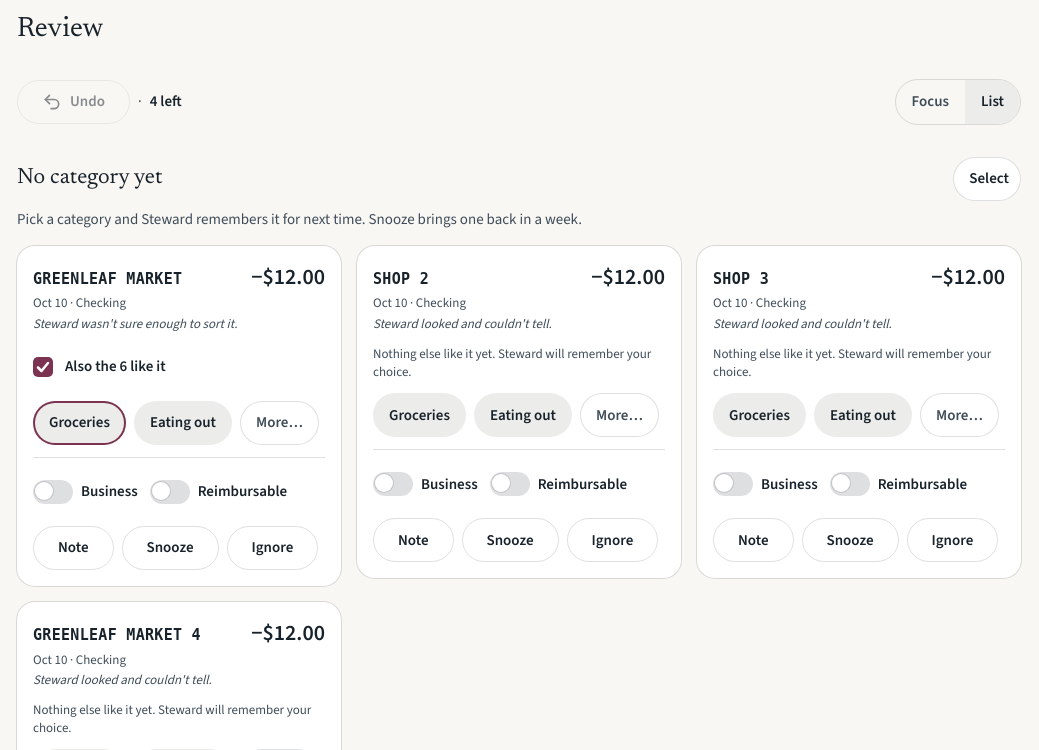
Test: the list (review focus P20, P21): a card acted on becomes a slim row in its place › Snooze and Ignore leave slim rows, and their toasts are plain sentences
Click the button "Snooze" below "SHOP 2".
click(510, 540)  # box [462,518,558,562]
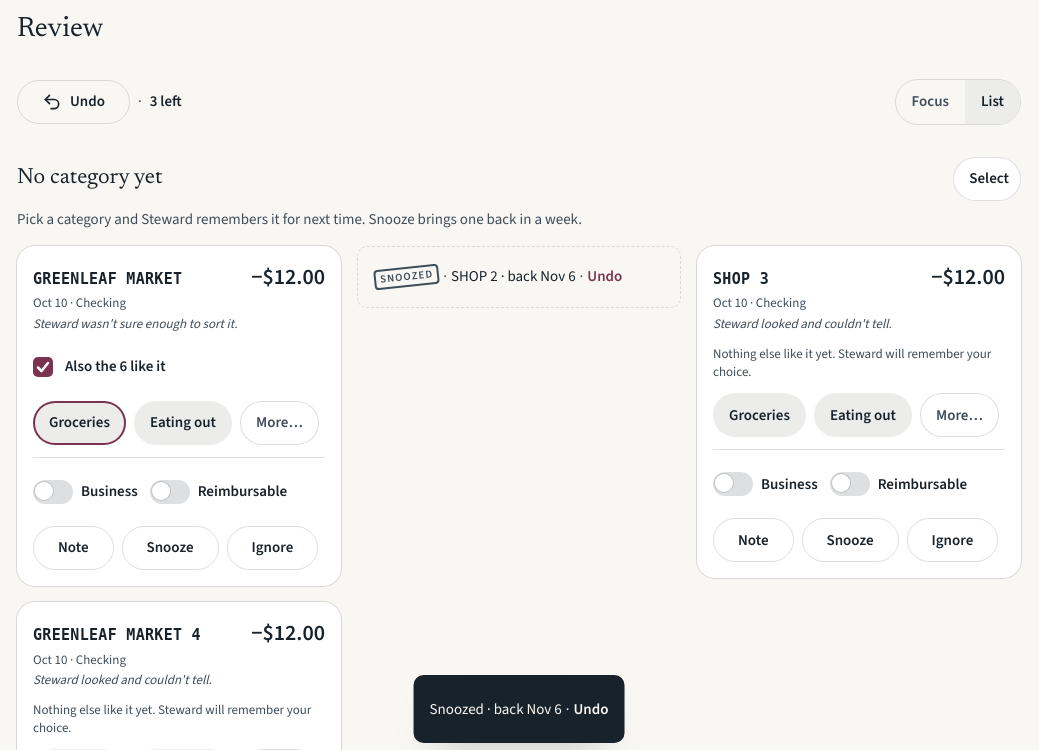
Check: the element with test id "slim-row" reads "SNOOZED · SHOP 2 · back Nov 6 · Undo", box [357,246,681,308]
Check: the message with class "undo-toast" reads "Snoozed · back Nov 6 · Undo", box [414,675,624,743]
Click the button "Ignore" below "SHOP 3".
click(952, 540)  # box [906,518,998,562]
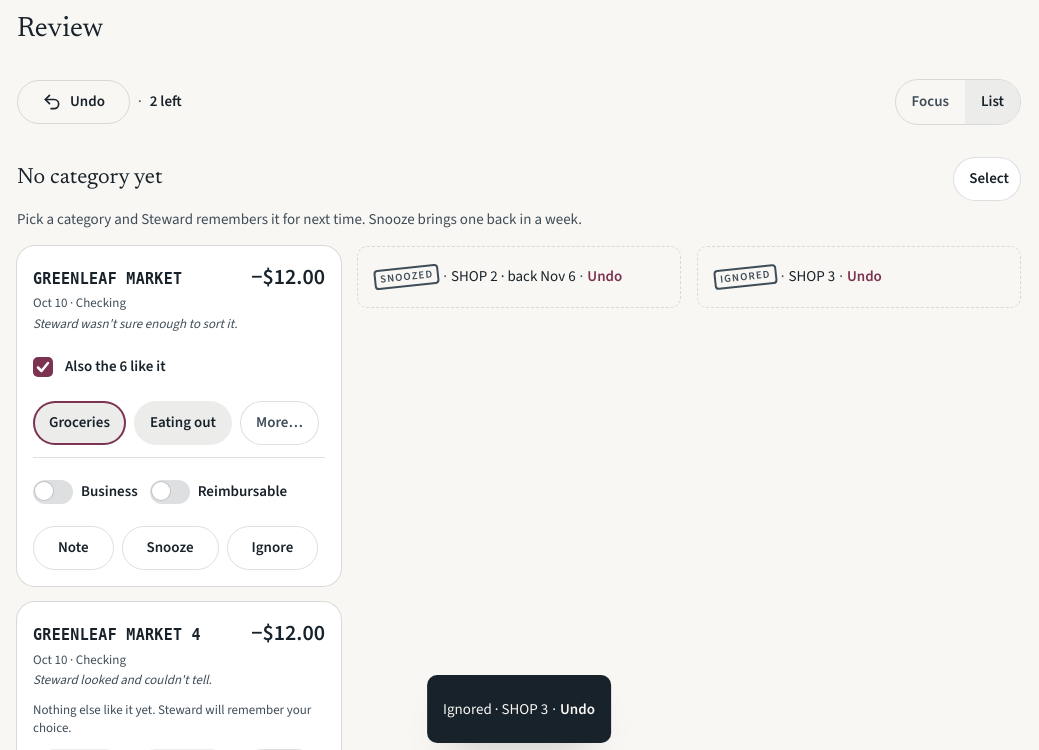
Check: the element with test id "slim-row" reads "IGNORED · SHOP 3 · Undo", box [697,246,1021,308]
Check: the message with class "undo-toast" reads "Ignored · SHOP 3 · Undo", box [427,675,611,743]
